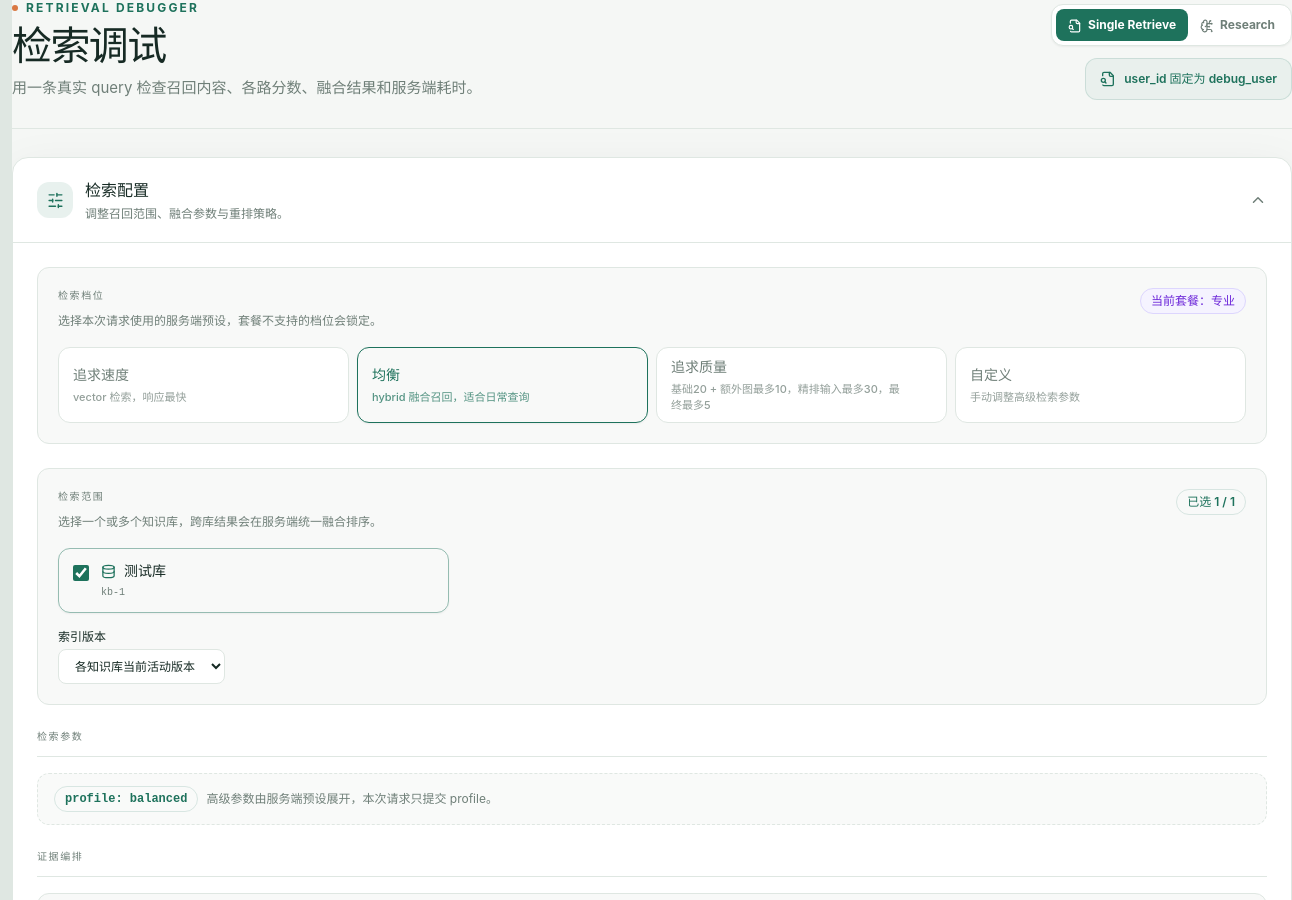
Test: RetrievePage research mode › shows which first-round gaps each supplement query targets even when the final pack is complete
Expected: the checkbox named "选择 测试库" is shown, [73,565,89,581]
Click the tab "Research". click: (1238, 25)
box: [1188,9,1287,41]
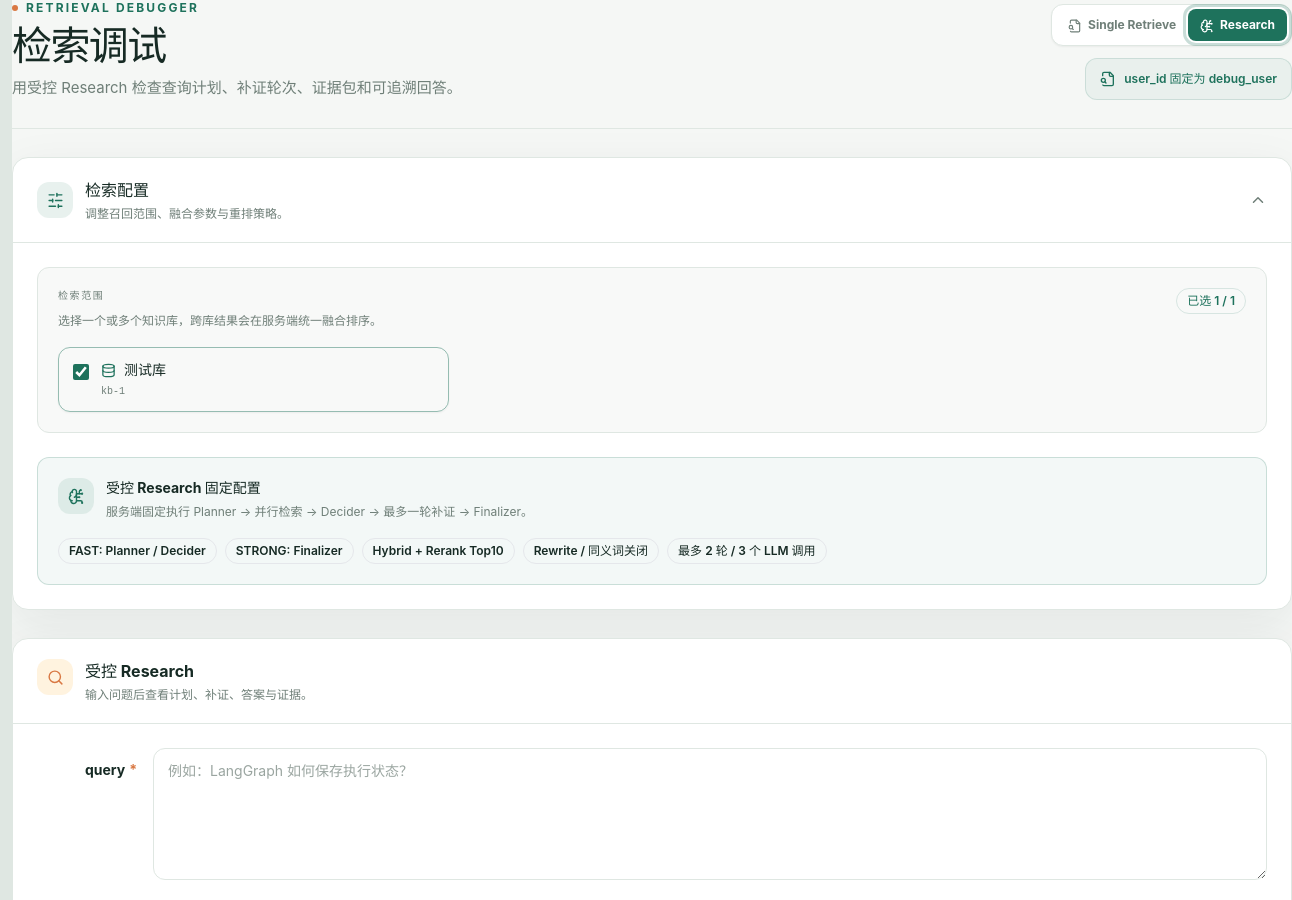
Type "first question" into the text box with placeholder "例如：LangGraph 如何保存执行状态？". click: (710, 814)
box: [153,748,1267,880]
(page scrolled)
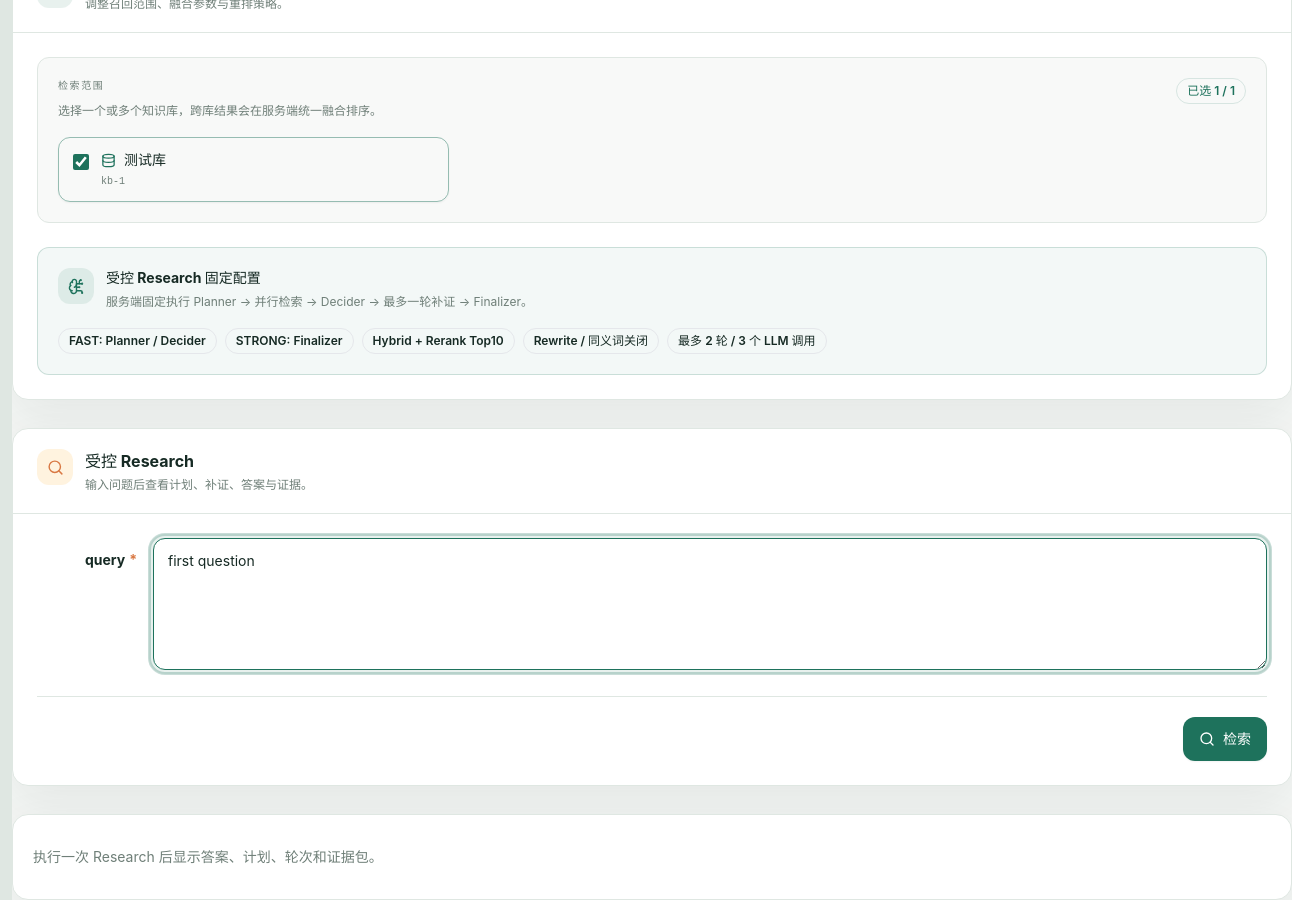
Click the button "检索". click: (1225, 739)
box: [1183,717,1267,761]
(page scrolled)
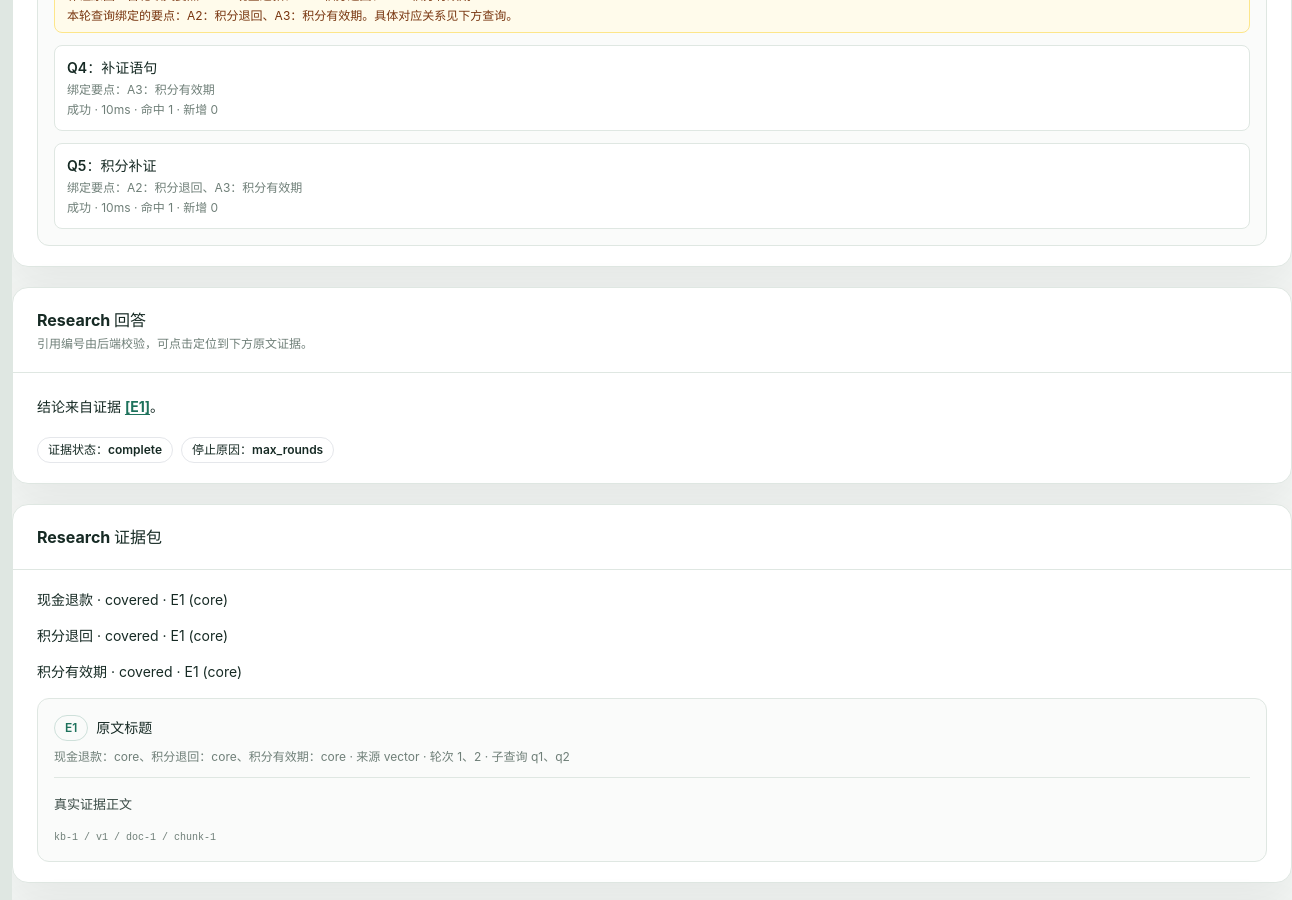
Now the list item "Q4：补证语句" is shown, box [54,45,1250,131]
Now the list item "Q5：积分补证" is shown, box [54,143,1250,229]
Now the text "绑定要点：A3：积分有效期" is shown, box [67,82,215,97]
